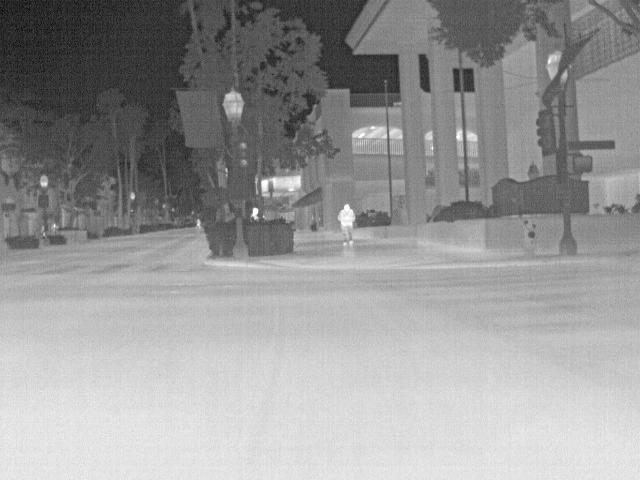person: (336, 202, 355, 248), (250, 204, 262, 222)
